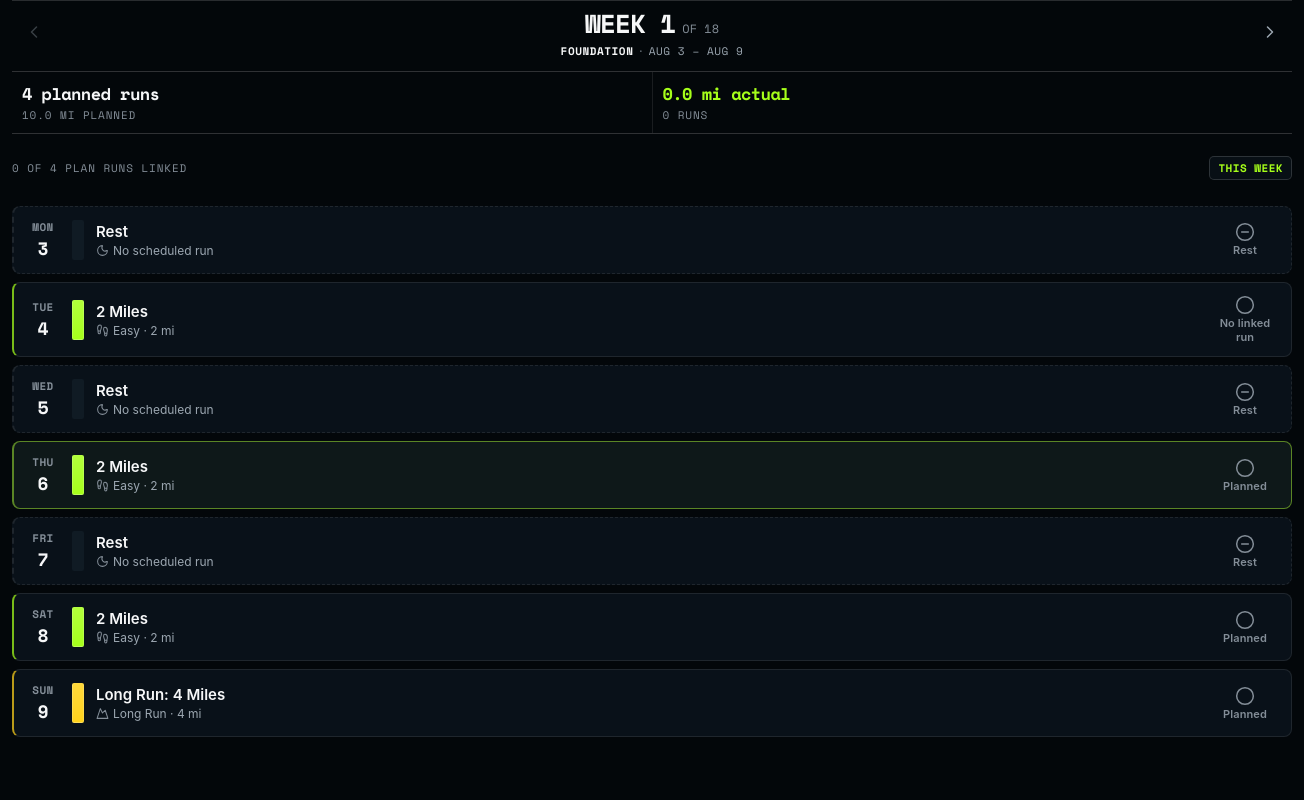
PlanScreen week navigation › offers the current-week shortcut only when away from the current week
Expected: the button "Current Week" is not shown
Click the button named "Next week": (1270, 34) [1248, 12, 1292, 56]
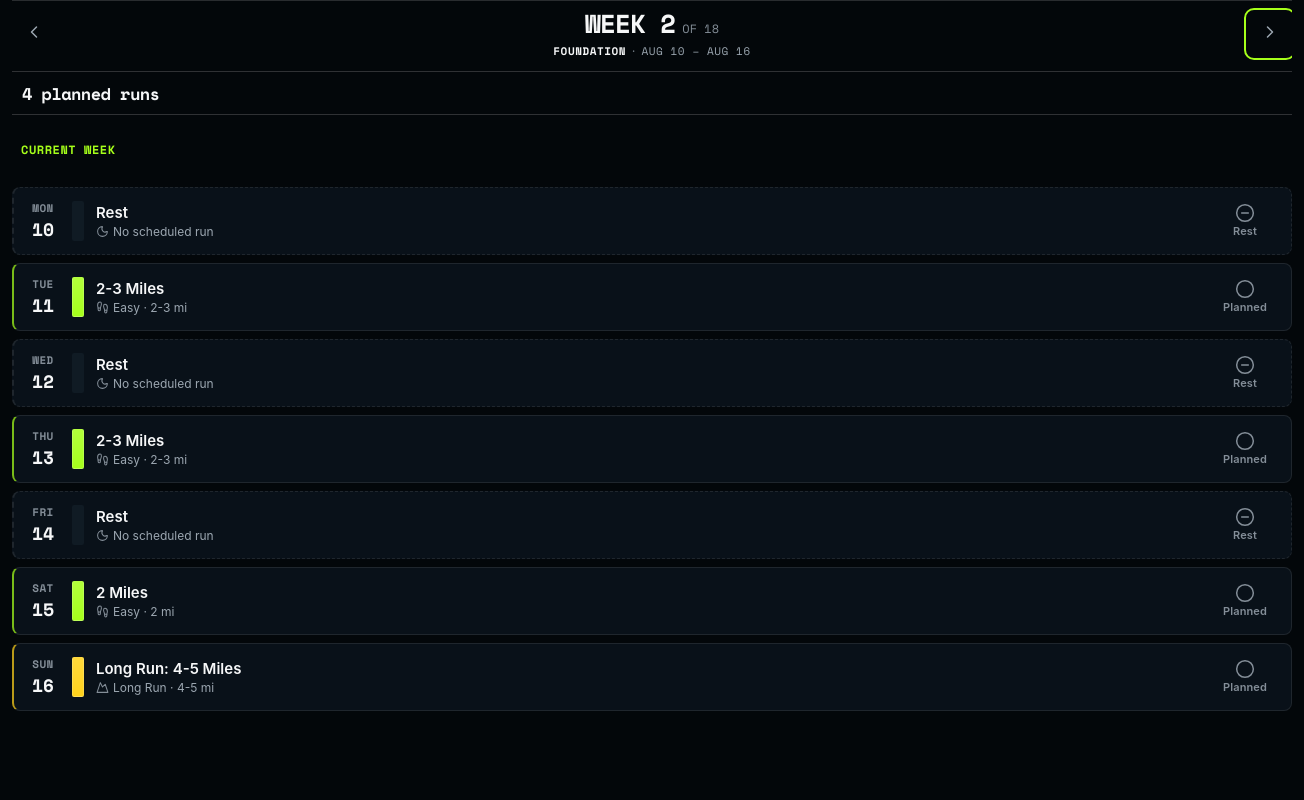
Click the button named "Next week": (1270, 34) [1248, 12, 1292, 56]
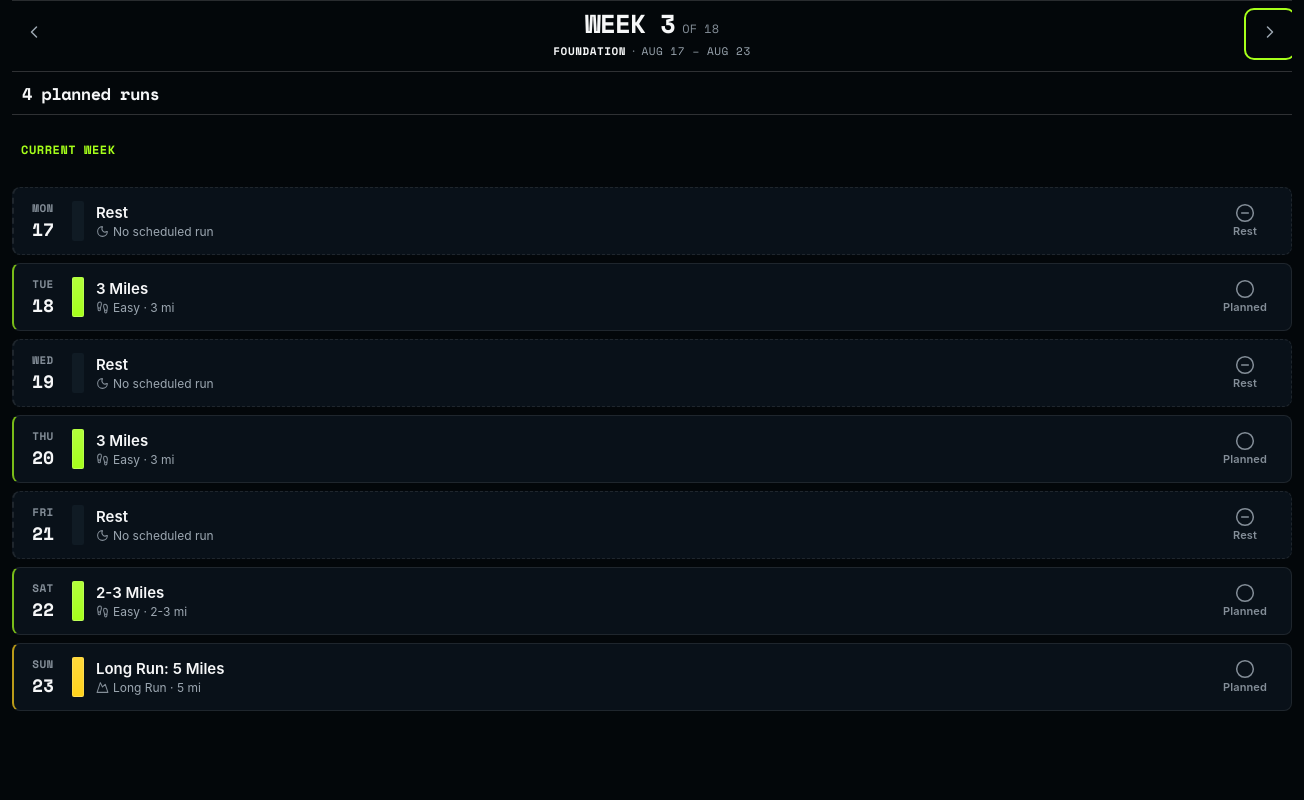
Expected: the heading reads "Week 3 of 18", [585, 4, 719, 42]
Click the button "Current Week": (68, 149) [12, 127, 125, 171]
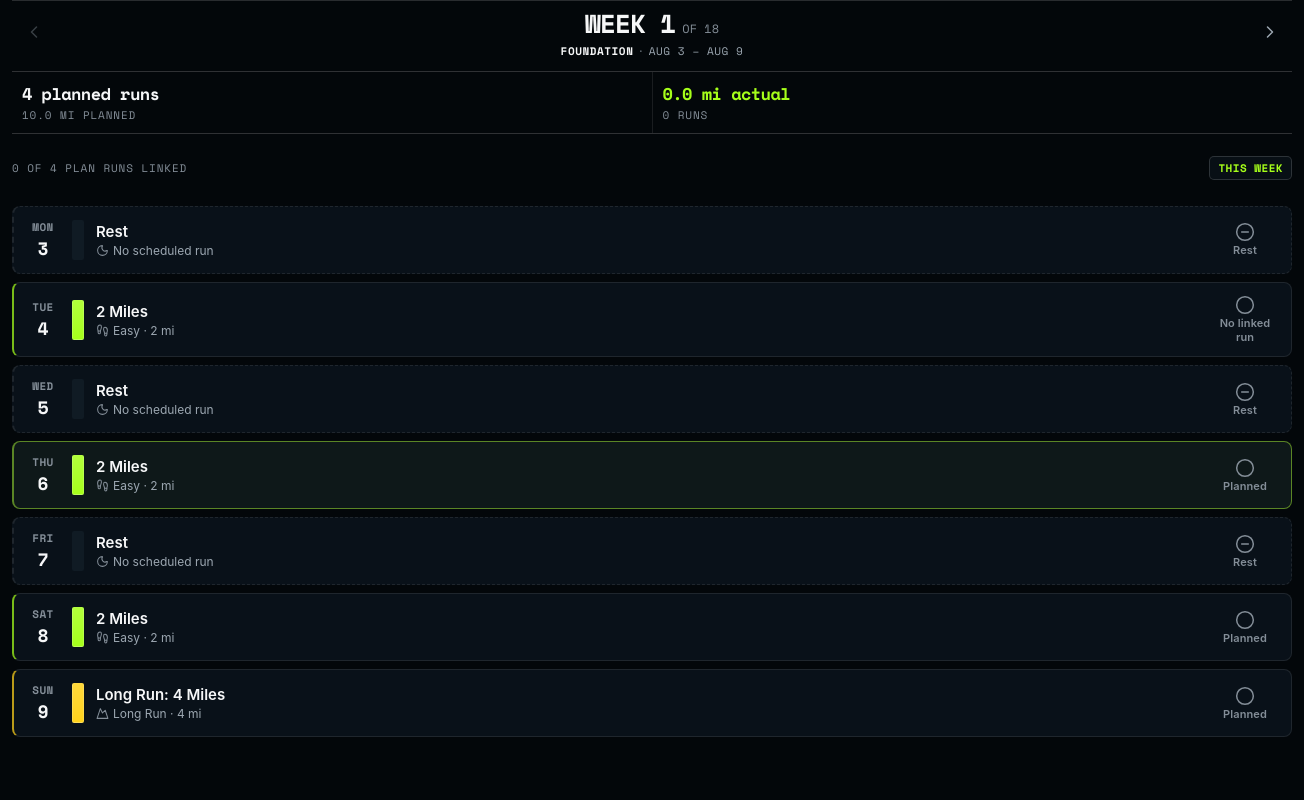
Expected: the heading reads "Week 1 of 18", [585, 4, 719, 42]
Expected: the button "Current Week" is gone
